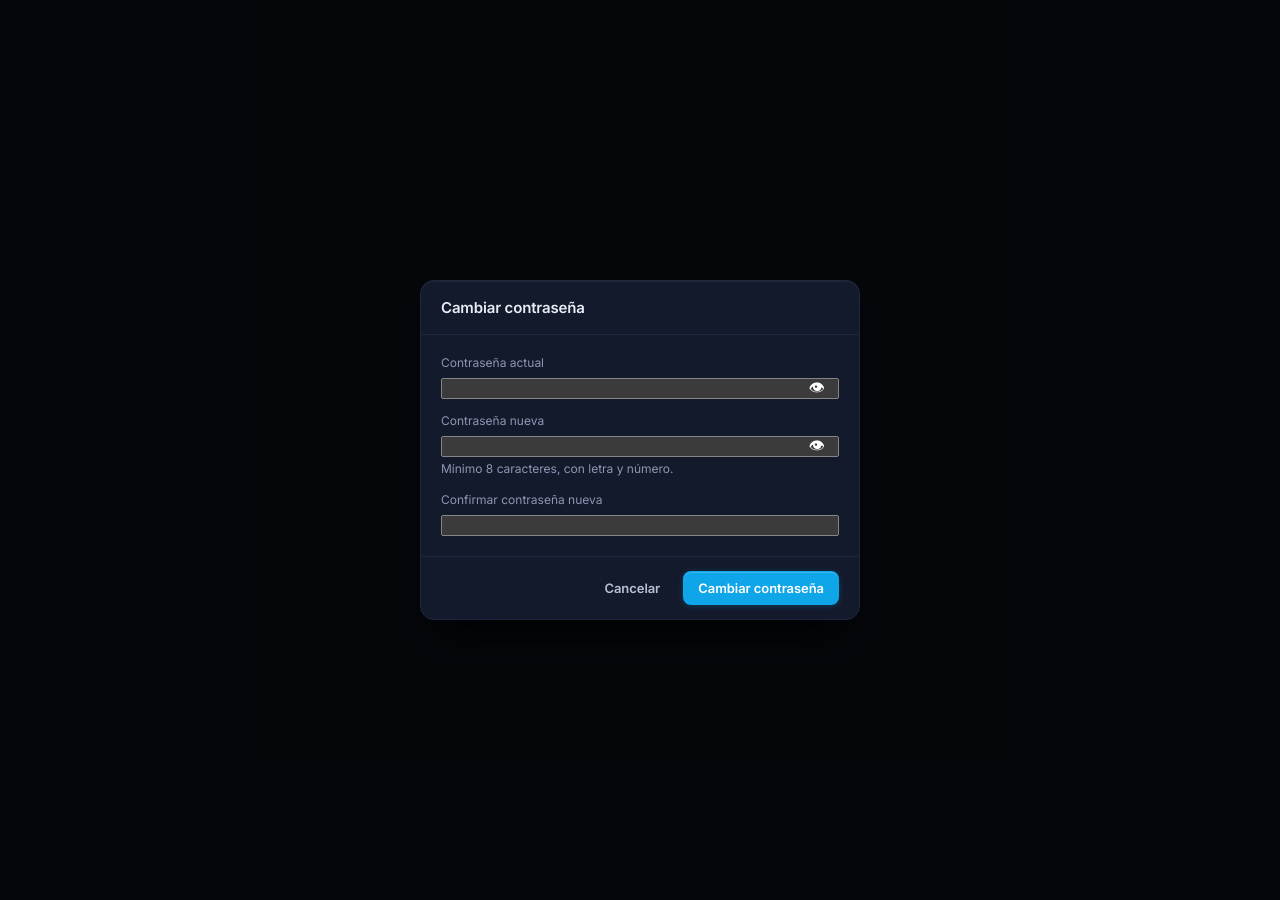
Test: ChangePasswordModal › valida cliente: confirm no matchea → error
The width and height of the screenshot is (1280, 900).
In the password field labelled "Contraseña actual": (640,389) [441,378,839,399], type "old-pass-123"
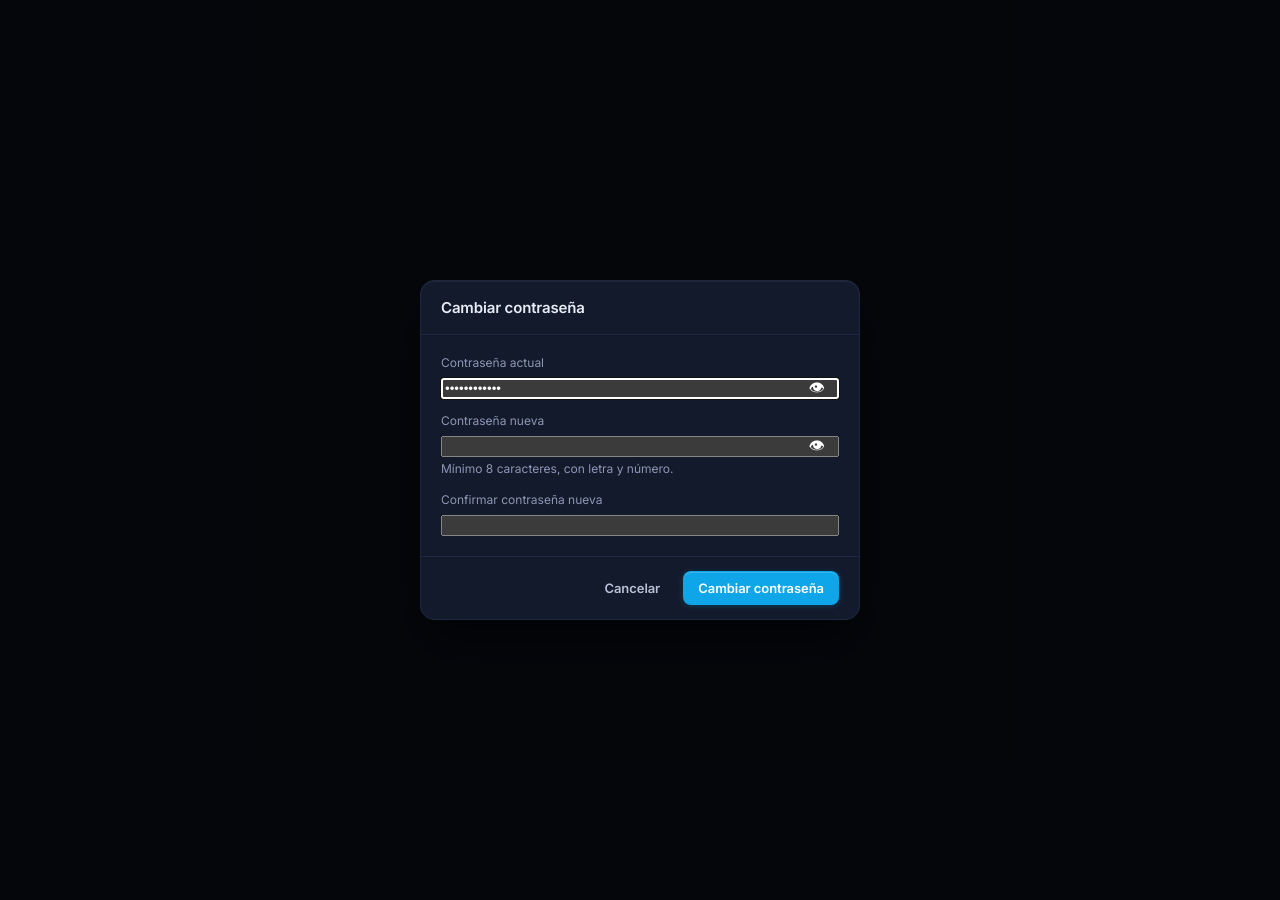
In the password field labelled "Contraseña nueva": (640,446) [441,436,839,457], type "newpass123"
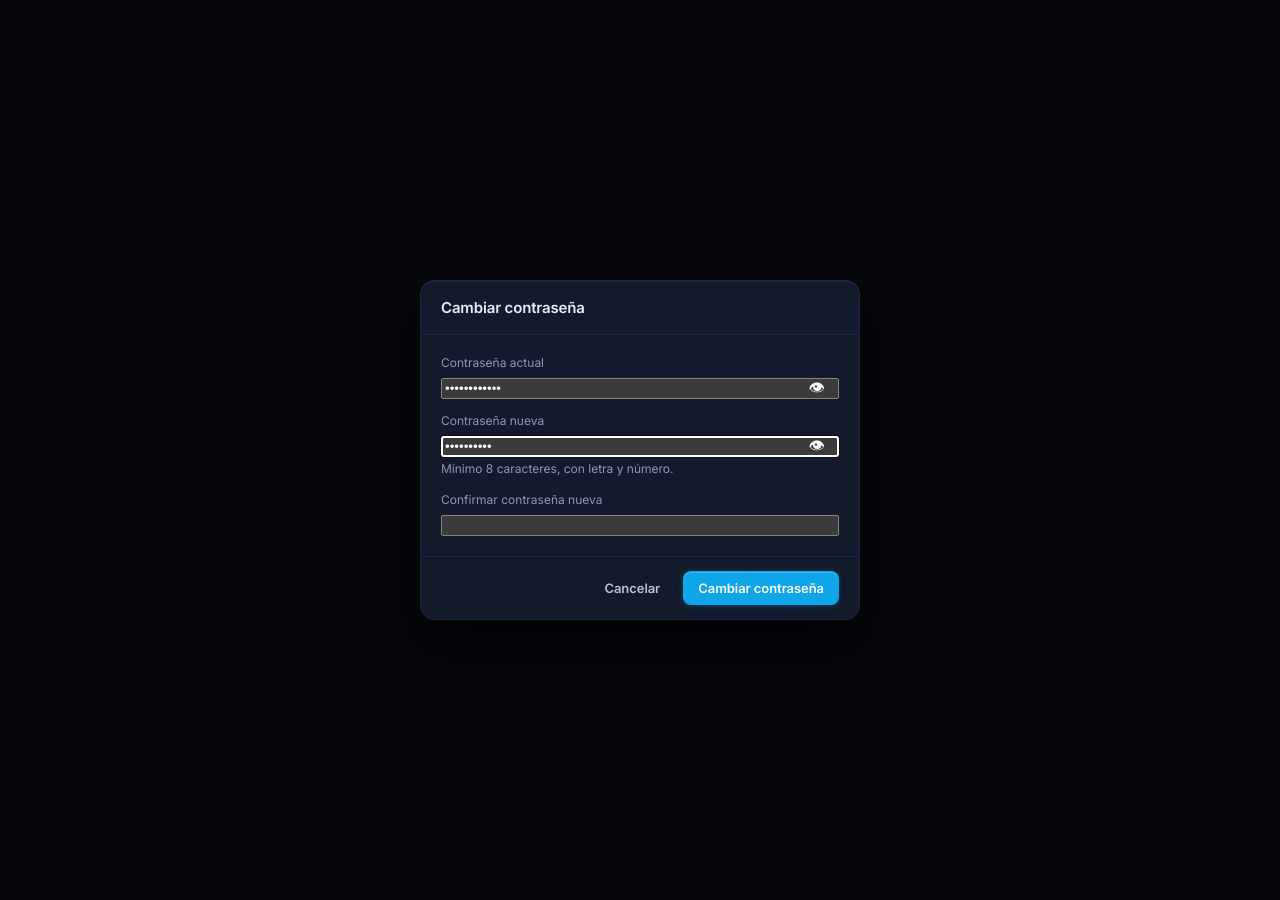
In the password field labelled "Confirmar contraseña nueva": (640,525) [441,515,839,536], type "newpass124"
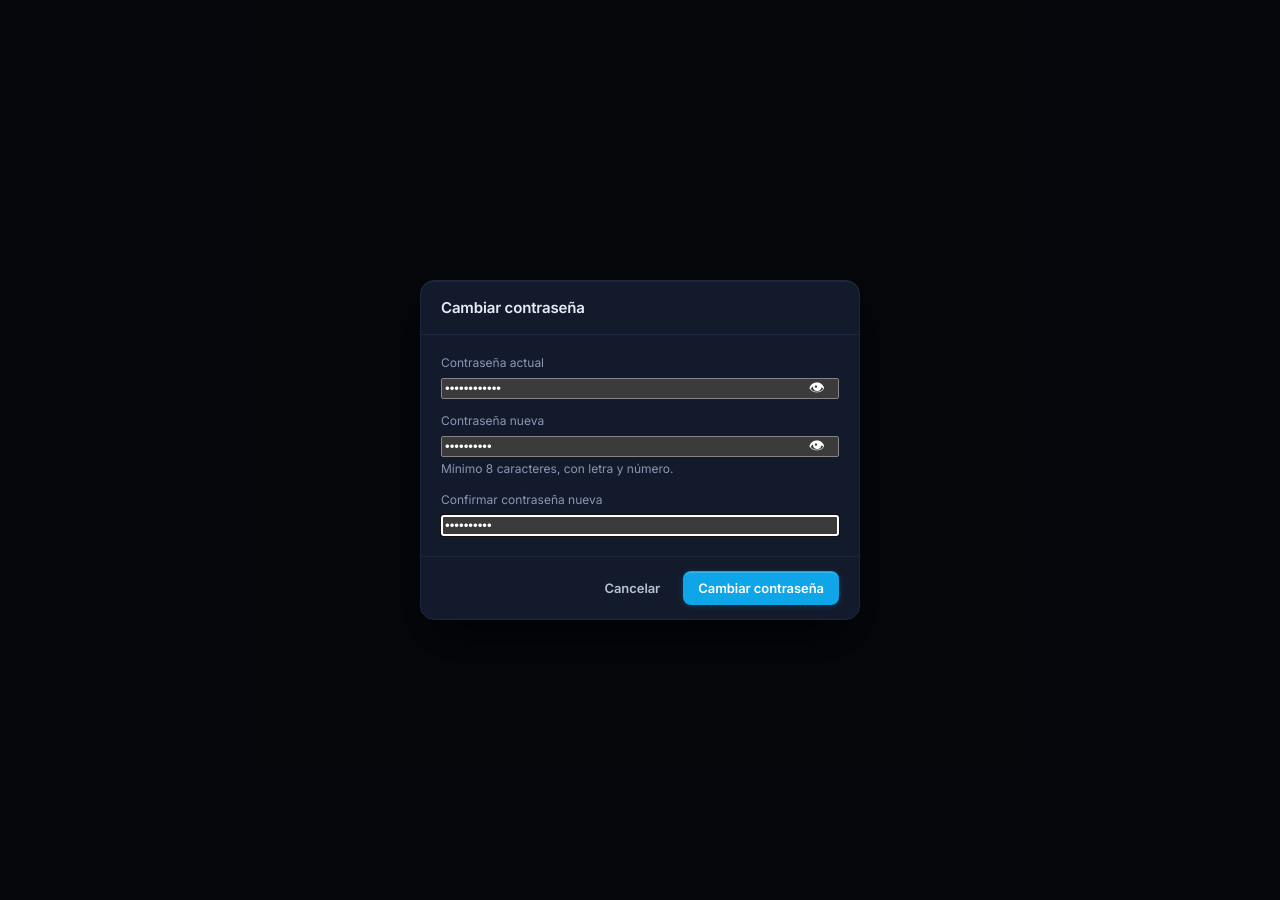
Click the button "Cambiar contraseña": (761,588) [683,571,839,605]
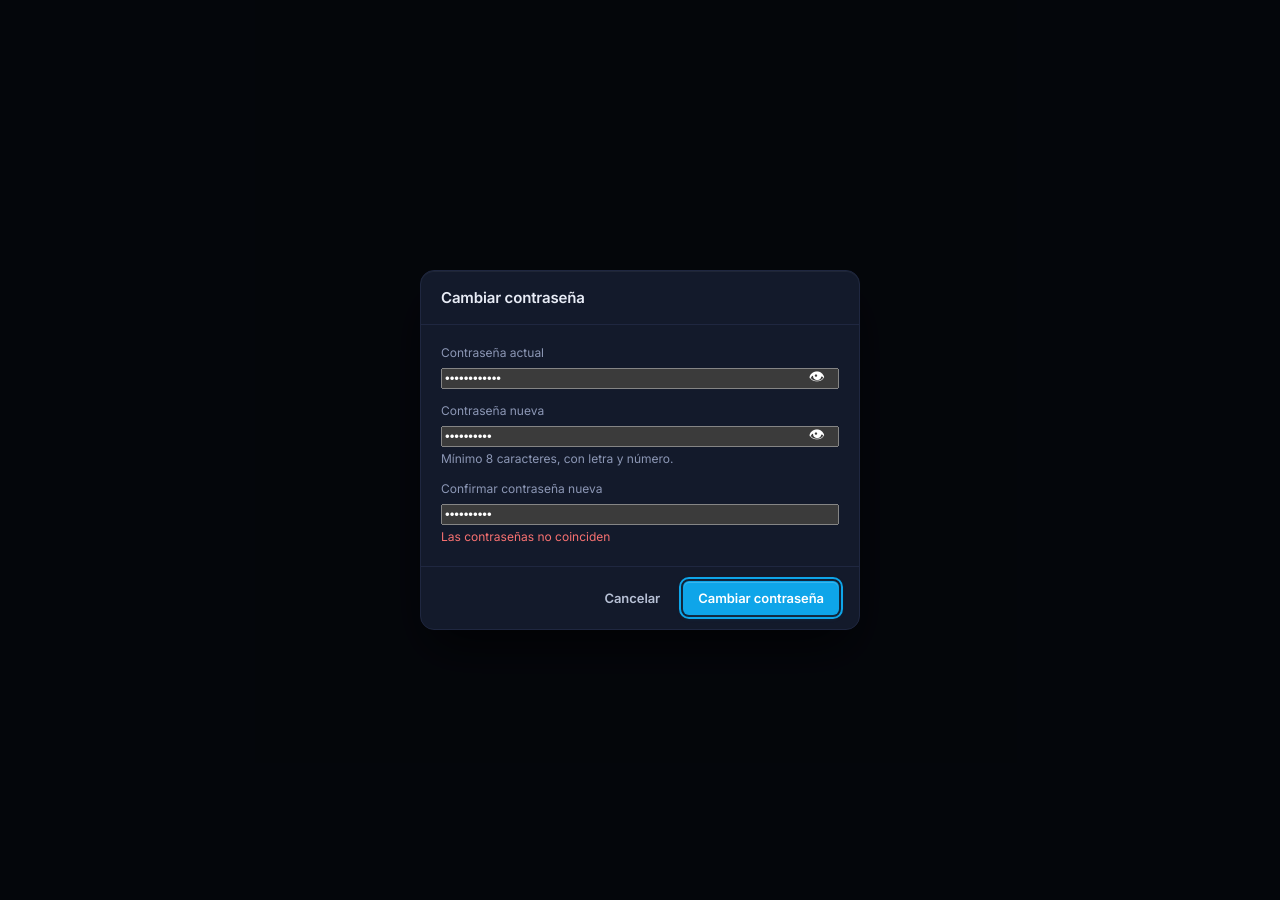
Check: the text "Las contraseñas no coinciden" is shown, box [441,529,610,544]
